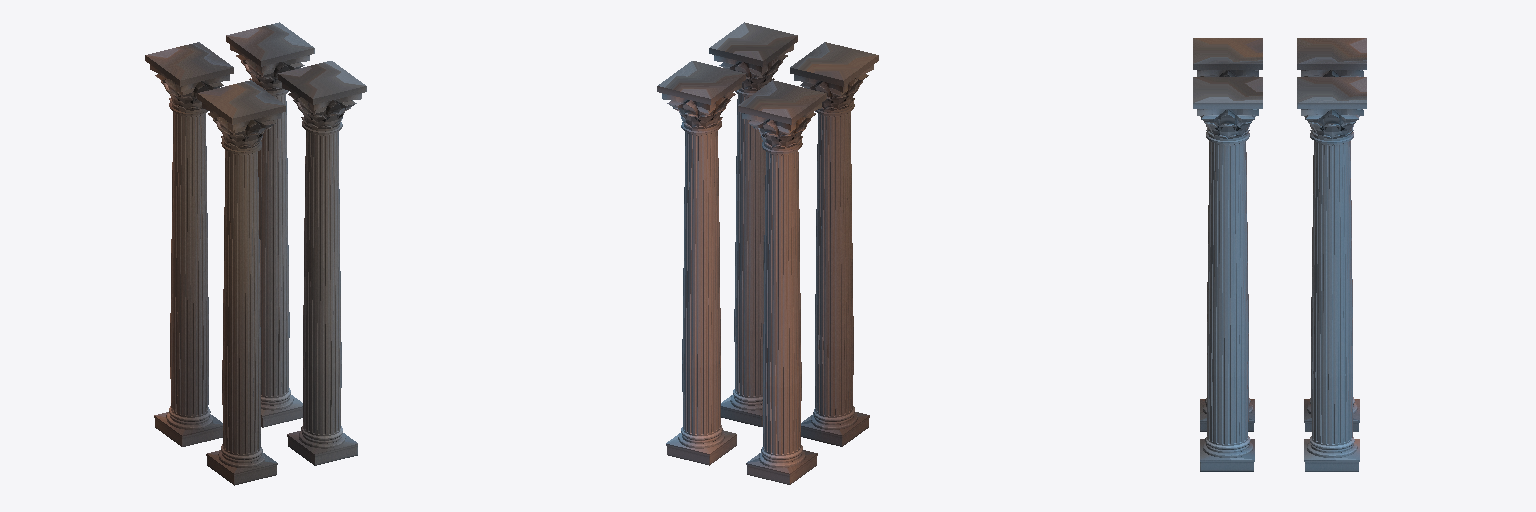
3 views of the same model, side by side, from view 1: azimuth 30°, elevation 25°; view 2: azimuth 150°, elevation 25°; view 3: azimuth 270°, elevation 25° (orthographic).
Parts seen in each view (by area): view 1: Pillar_Group_L; view 2: Pillar_Group_L; view 3: Pillar_Group_L.
Part boxes in pixels (bbox=[...]): Pillar_Group_L: bbox=[145, 22, 366, 485]; Pillar_Group_L: bbox=[657, 22, 878, 484]; Pillar_Group_L: bbox=[1193, 38, 1366, 471].
Size of the model in its own units: 4.65 by 12.28 by 5.22.
1 materials, 1 textured.